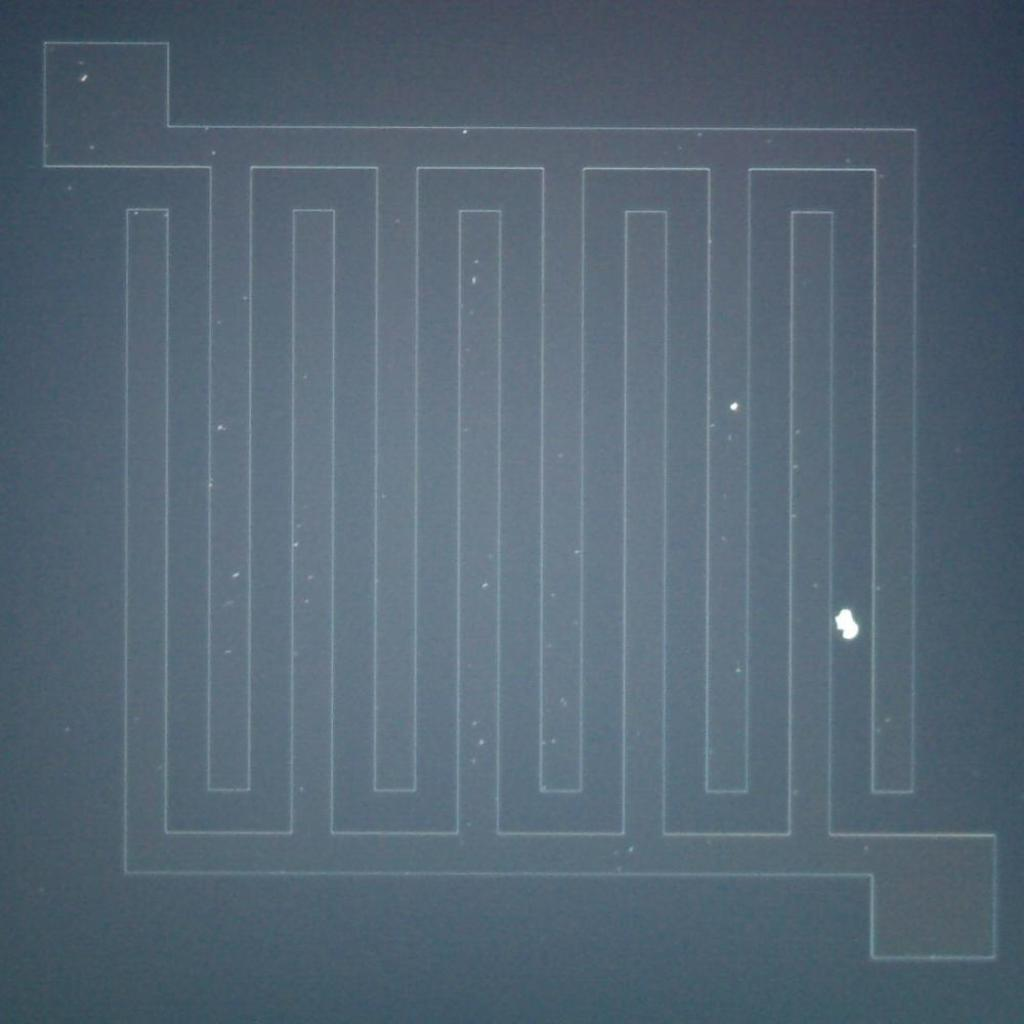Bdot: (832, 609, 861, 638)
dot: (730, 403, 737, 410), (81, 75, 88, 82), (471, 278, 477, 284), (233, 572, 239, 578), (482, 582, 488, 588), (574, 549, 580, 554), (479, 740, 484, 745), (463, 130, 467, 134), (212, 151, 216, 155), (218, 426, 222, 430), (294, 543, 298, 547)
